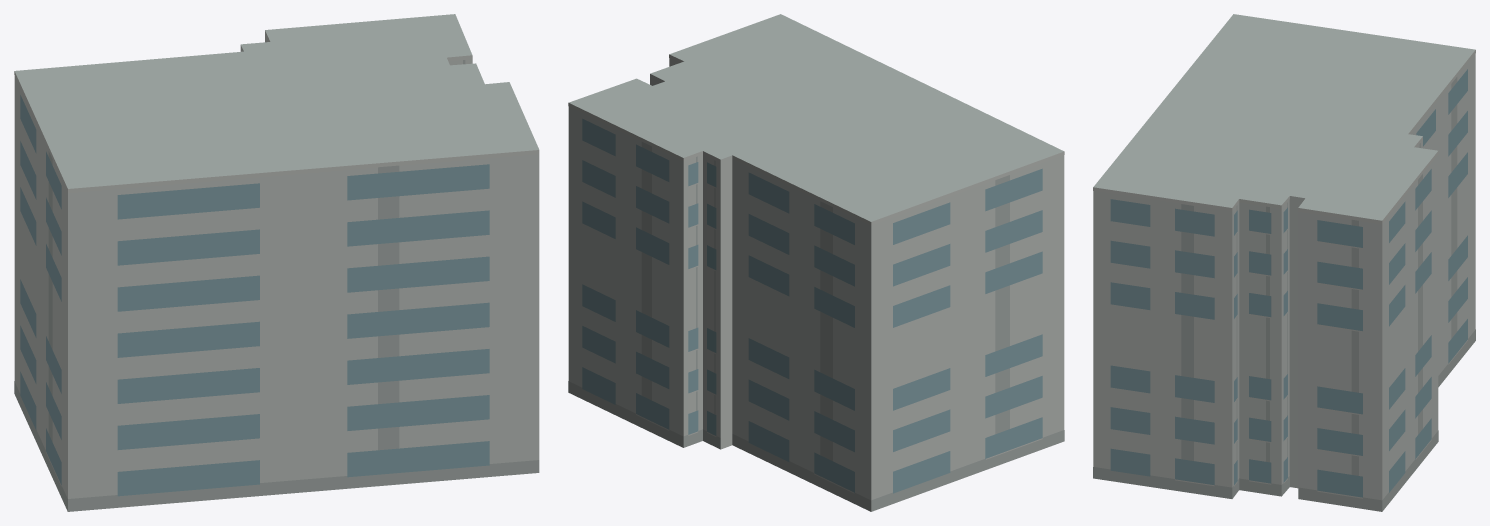
The model's file is survey-upis-32881424.glb.
3 views of the same model, side by side, from view 1: azimuth 30°, elevation 25°; view 2: azimuth 150°, elevation 25°; view 3: azimuth 270°, elevation 25° (orthographic). The views are drawn at different scales.
Visible parts, largest first — view 1: survey-upis-32881424.tmp; view 2: survey-upis-32881424.tmp; view 3: survey-upis-32881424.tmp.
Boxes of the visible parts, left/top/right/bottom form: survey-upis-32881424.tmp: left=14, top=14, right=539, bottom=511; survey-upis-32881424.tmp: left=568, top=14, right=1064, bottom=511; survey-upis-32881424.tmp: left=1093, top=14, right=1475, bottom=511.
Size of the model in its own units: 30.16 by 19.8 by 23.59.
